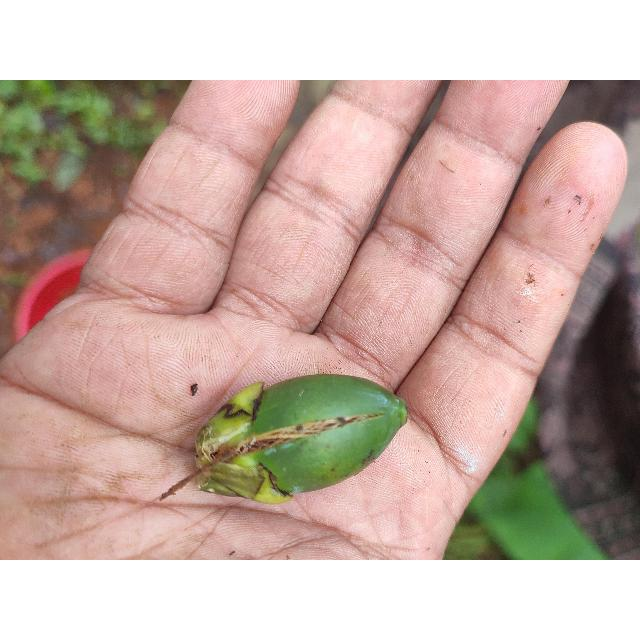damaged: (192, 373, 409, 507)
